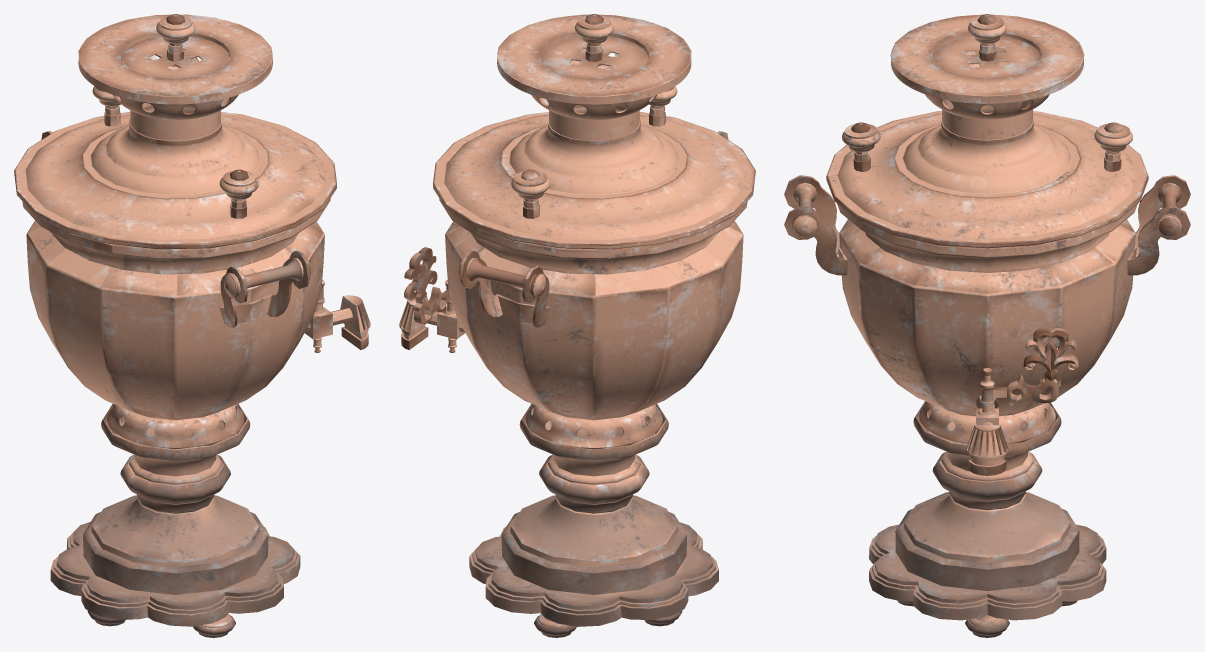
Rendered from samovar-authentic.glb.
3 views of the same model, side by side, from view 1: azimuth 30°, elevation 25°; view 2: azimuth 150°, elevation 25°; view 3: azimuth 270°, elevation 25° (orthographic).
Visible parts, largest first — view 1: samovar_05; view 2: samovar_05; view 3: samovar_05.
Part boxes in pixels (x1,y1,x2,y2): samovar_05: (14,14,370,637); samovar_05: (399,14,755,637); samovar_05: (784,14,1190,637).
Size of the model in its own units: 0.2644 by 0.4461 by 0.2814.
Materials: 1 (1 with a texture image).
